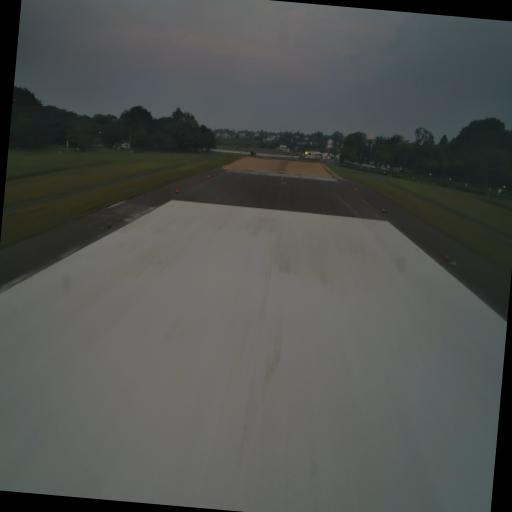off: (106, 220, 112, 231)
on: (443, 254, 450, 262), (175, 187, 180, 195), (381, 208, 386, 214)
